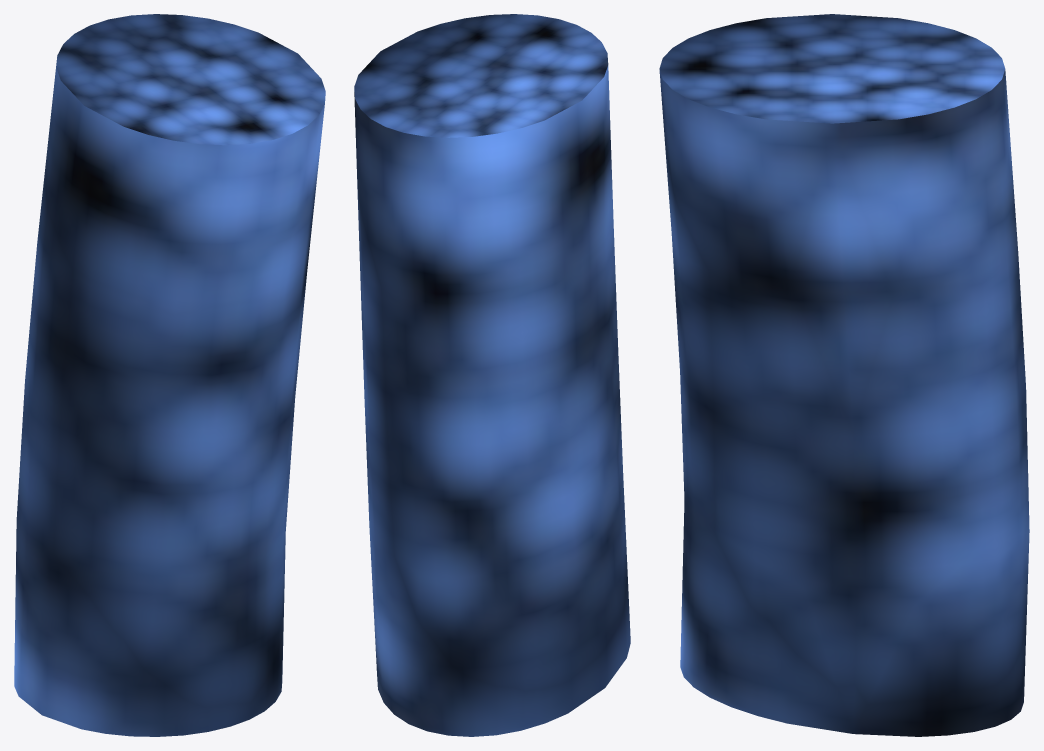
The model's file is MesaPillar.fbx.
3 views of the same model, side by side, from view 1: azimuth 30°, elevation 25°; view 2: azimuth 150°, elevation 25°; view 3: azimuth 270°, elevation 25° (orthographic). The views are drawn at different scales.
Visible parts, largest first — view 1: makevr_0012; view 2: makevr_0012; view 3: makevr_0012.
Boxes of the visible parts, x1,y1,x2,y2 form: makevr_0012: (14, 14, 325, 736); makevr_0012: (354, 14, 630, 736); makevr_0012: (659, 14, 1029, 736).
Size of the model in its own units: 275 by 659 by 339.
